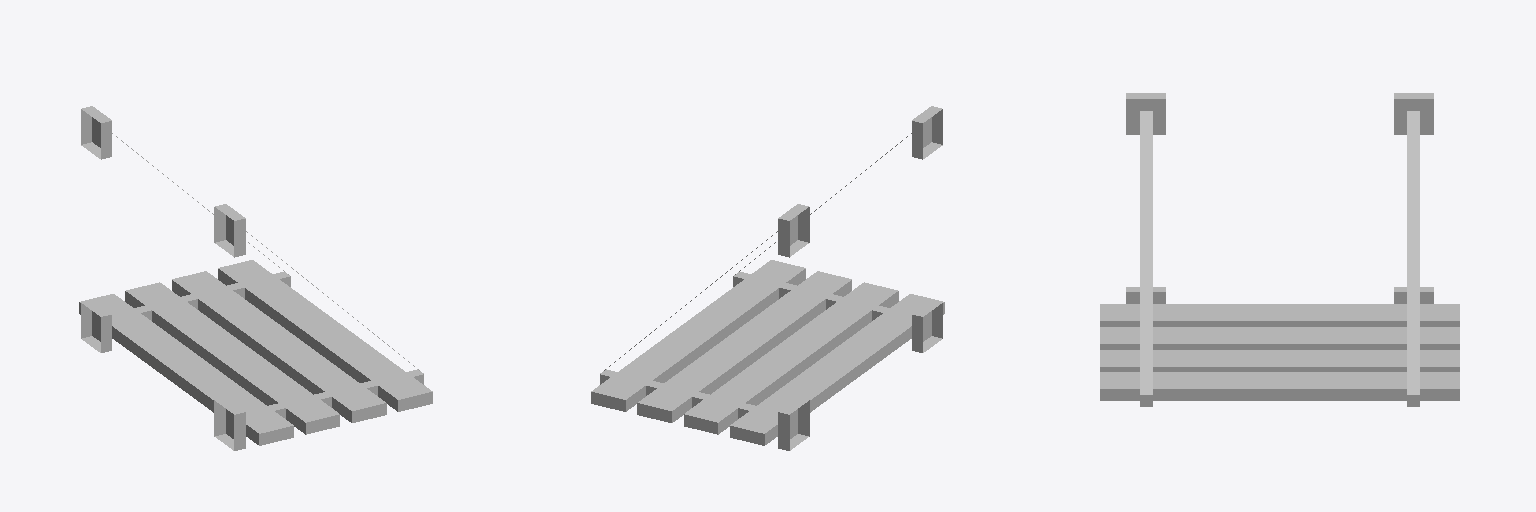
The model's file is medieval_prison_bed v2.obj.
3 renders of one model, left to right at view 1: azimuth 30°, elevation 25°; view 2: azimuth 150°, elevation 25°; view 3: azimuth 270°, elevation 25°, orthographic.
Parts seen in each view (by area): view 1: medieval_prison_bed v2; view 2: medieval_prison_bed v2; view 3: medieval_prison_bed v2.
Boxes of the visible parts, <box> form: medieval_prison_bed v2: <box>79,106,432,450</box>; medieval_prison_bed v2: <box>591,106,944,450</box>; medieval_prison_bed v2: <box>1100,93,1459,406</box>.
Size of the model in its own units: 4.25 by 4.75 by 6.75.